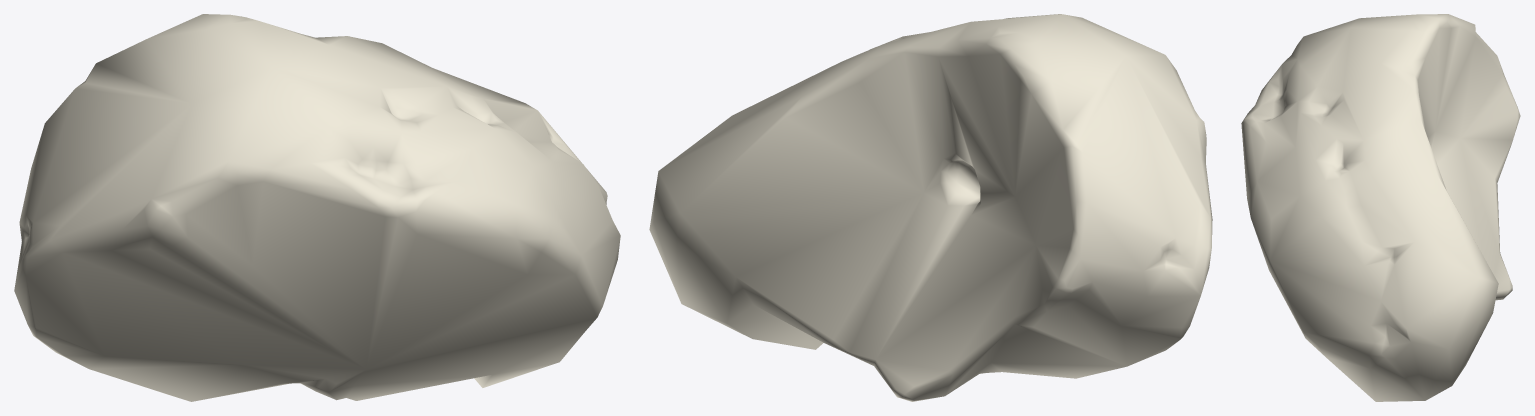
3 renders of one model, left to right at view 1: azimuth 30°, elevation 25°; view 2: azimuth 150°, elevation 25°; view 3: azimuth 270°, elevation 25°, orthographic. The views are drawn at different scales.
Parts seen in each view (by area): view 1: ZA_64ab83c37785af07; view 2: ZA_64ab83c37785af07; view 3: ZA_64ab83c37785af07.
Boxes of the visible parts, <box> form: ZA_64ab83c37785af07: <box>14,14,620,401</box>; ZA_64ab83c37785af07: <box>649,14,1212,401</box>; ZA_64ab83c37785af07: <box>1241,14,1520,401</box>.
Bounding box in the file's own units: 0.0407 × 0.0275 × 0.024.
